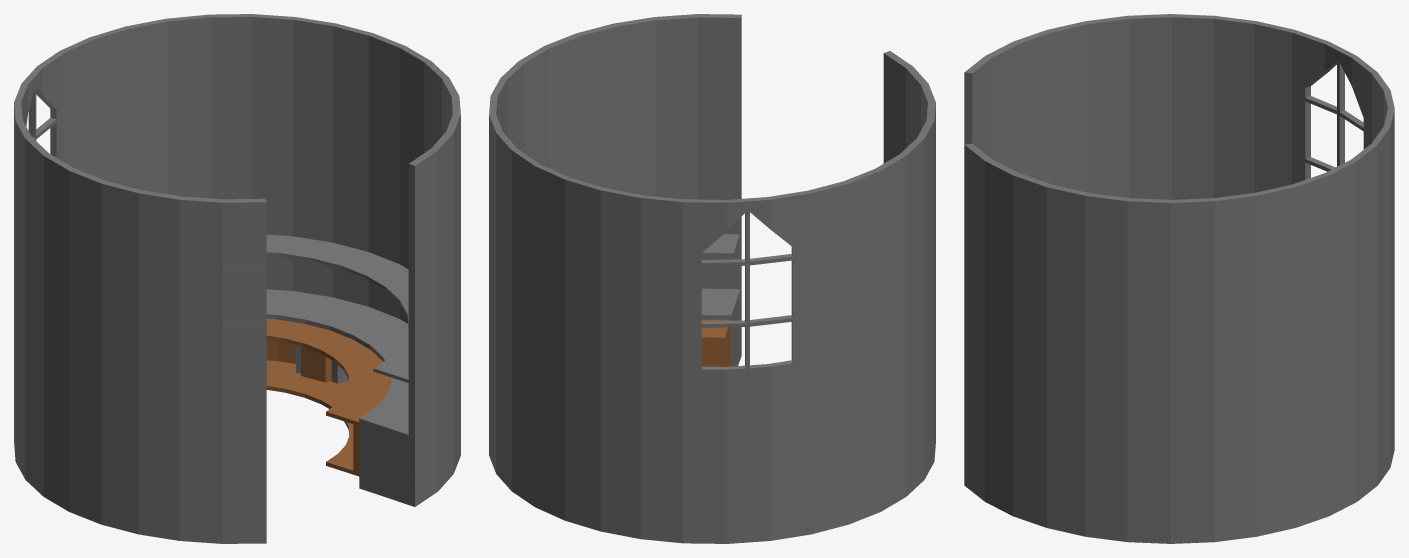
Rendered from RoomBlockout.fbx.
The picture shows the model from 3 angles, left to right: view 1: azimuth 30°, elevation 25°; view 2: azimuth 150°, elevation 25°; view 3: azimuth 270°, elevation 25°; orthographic projection.
Visible parts, largest first — view 1: Cylinder.003; view 2: Cylinder.003; view 3: Cylinder.003.
Boxes of the visible parts, <box> form: Cylinder.003: <box>14,14,460,543</box>; Cylinder.003: <box>489,14,935,543</box>; Cylinder.003: <box>964,14,1394,543</box>.
Size of the model in its own units: 686 by 576 by 660.
